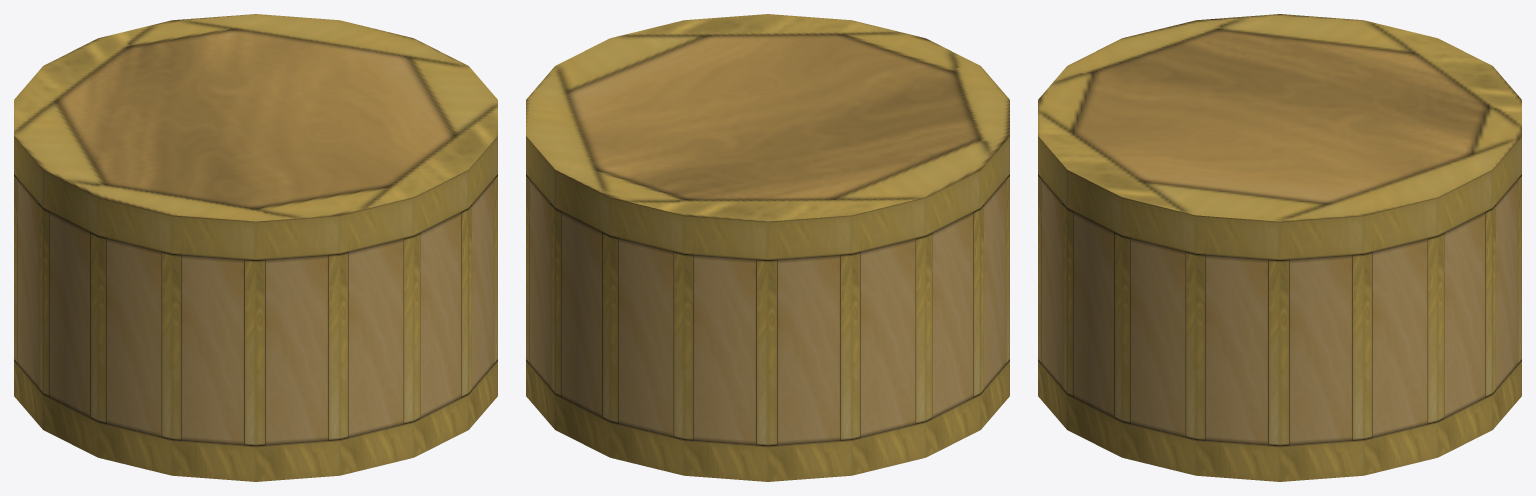
The model's file is woodCylinder.obj.
The picture shows the model from 3 angles, left to right: view 1: azimuth 30°, elevation 25°; view 2: azimuth 150°, elevation 25°; view 3: azimuth 270°, elevation 25°; orthographic projection.
Visible parts, largest first — view 1: woodCylinder; view 2: woodCylinder; view 3: woodCylinder.
Boxes of the visible parts, left/top/right/bottom form: woodCylinder: left=14, top=14, right=497, bottom=481; woodCylinder: left=526, top=14, right=1009, bottom=481; woodCylinder: left=1038, top=14, right=1521, bottom=481.
Bounding box in the file's own units: 1.71 × 1 × 1.69.
Materials: 1 (1 with a texture image).
